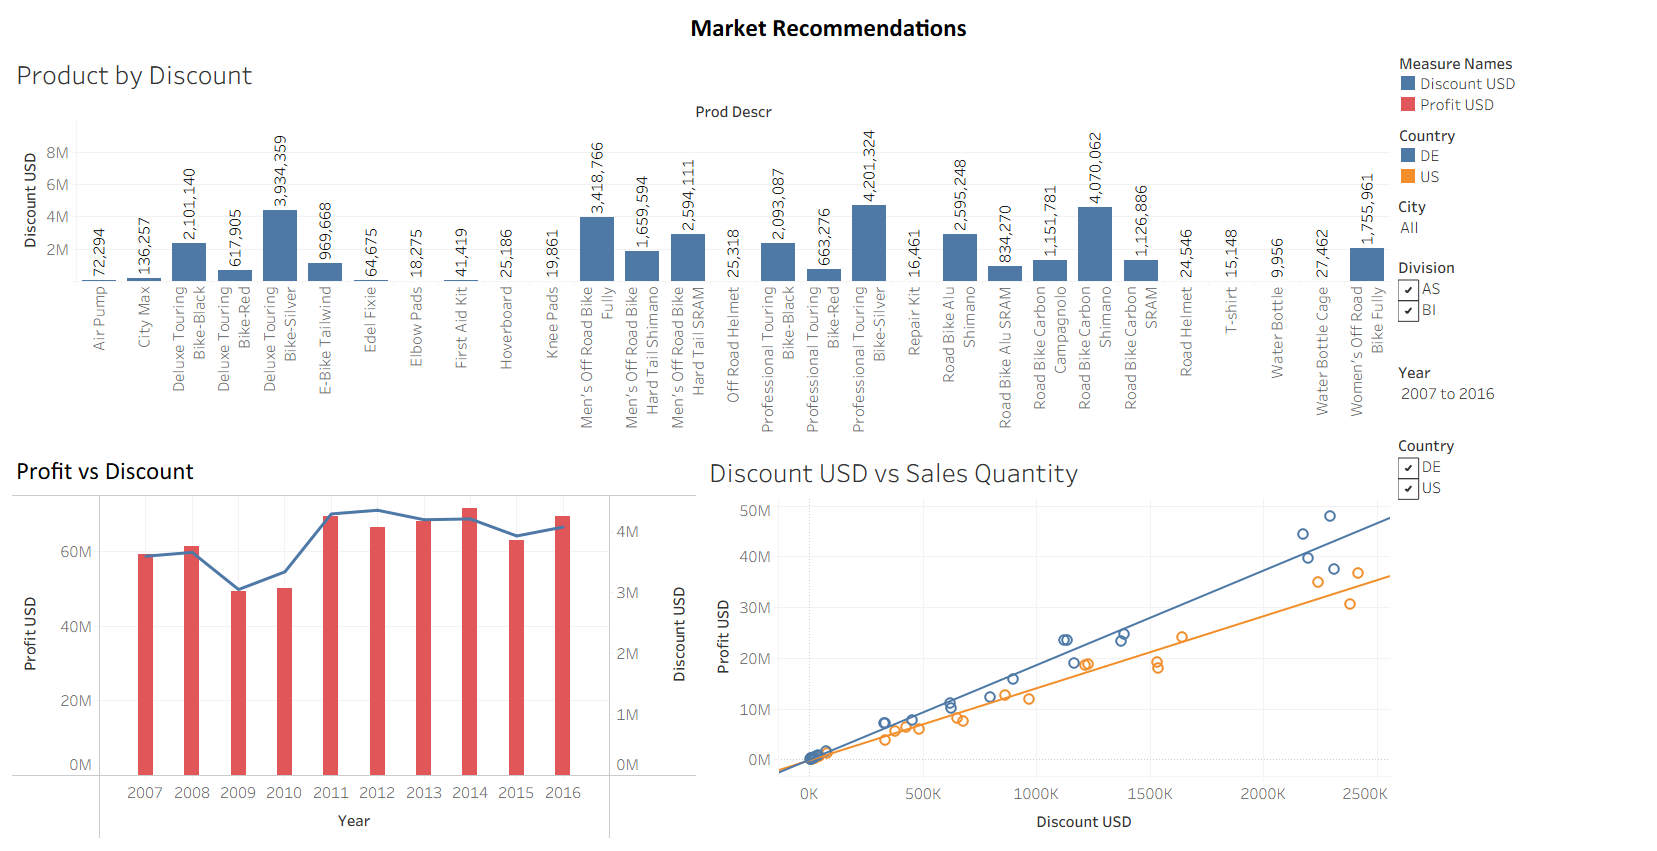

What the dashboard file says about the page in this screenshot:
{"tool":"tableau","page":{"name":"Market Recommendation","canvas":[1000,1000],"units":"permille","ordinal":2},"visuals":[{"type":"title","box":[8.6,9.5,982.7,46.4]},{"type":"worksheet","title":"Products by Discount","mark":"Automatic","rows":["Discount USD"],"cols":["ProdDescr"],"box":[8.6,55.9,707.3,467.2]},{"type":"legend","title":"Profit vs Discount ","param":"[federated.0ixjiiv0kj4zjk119lfm21yofpn2].[:Measure Names]","box":[716,55.9,275.4,85.6]},{"type":"legend","title":"Discount USD vs Sales Quantity","param":"[federated.0ixjiiv0kj4zjk119lfm21yofpn2].[none:Country:nk]","box":[716,141.5,275.4,85.6]},{"type":"filter","title":"Discount USD vs Sales Quantity","param":"[federated.0ixjiiv0kj4zjk119lfm21yofpn2].[none:City:nk]","box":[716,227.1,275.4,72.5]},{"type":"filter","title":"Discount USD vs Sales Quantity","param":"[federated.0ixjiiv0kj4zjk119lfm21yofpn2].[none:Division:nk]","box":[716,299.6,275.4,124.9]},{"type":"filter","title":"Discount USD vs Sales Quantity","param":"[federated.0ixjiiv0kj4zjk119lfm21yofpn2].[none:YEAR:qk]","box":[716,424.5,275.4,86.8]},{"type":"filter","title":"Discount USD vs Sales Quantity","param":"[federated.0ixjiiv0kj4zjk119lfm21yofpn2].[none:Country:nk]","box":[716,511.3,275.4,173.6]},{"type":"worksheet","title":"Profit vs Discount ","mark":"Automatic","rows":["Calculation_973621998866784256","Discount USD"],"cols":["YEAR"],"box":[8.6,523,353.7,467.4]},{"type":"worksheet","title":"Discount USD vs Sales Quantity","mark":"Automatic","rows":["Calculation_973621998866784256"],"cols":["Discount USD"],"box":[362.3,523,353.7,467.4]}]}

Visuals, with their boxes on the dashboard's canvas, which has no fixed pixel size, in thousandths of its width and height (x1, y1, x2, y2). These are canvas units, not pixel positions in the 1657x851 screenshot, which may show the page scaled, cropped or inside an application window:
title: [9, 10, 991, 56]
"Products by Discount" worksheet: [9, 56, 716, 523]
"Profit vs Discount " legend: [716, 56, 991, 142]
"Discount USD vs Sales Quantity" legend: [716, 142, 991, 227]
"Discount USD vs Sales Quantity" filter: [716, 227, 991, 300]
"Discount USD vs Sales Quantity" filter: [716, 300, 991, 424]
"Discount USD vs Sales Quantity" filter: [716, 424, 991, 511]
"Discount USD vs Sales Quantity" filter: [716, 511, 991, 685]
"Profit vs Discount " worksheet: [9, 523, 362, 990]
"Discount USD vs Sales Quantity" worksheet: [362, 523, 716, 990]
